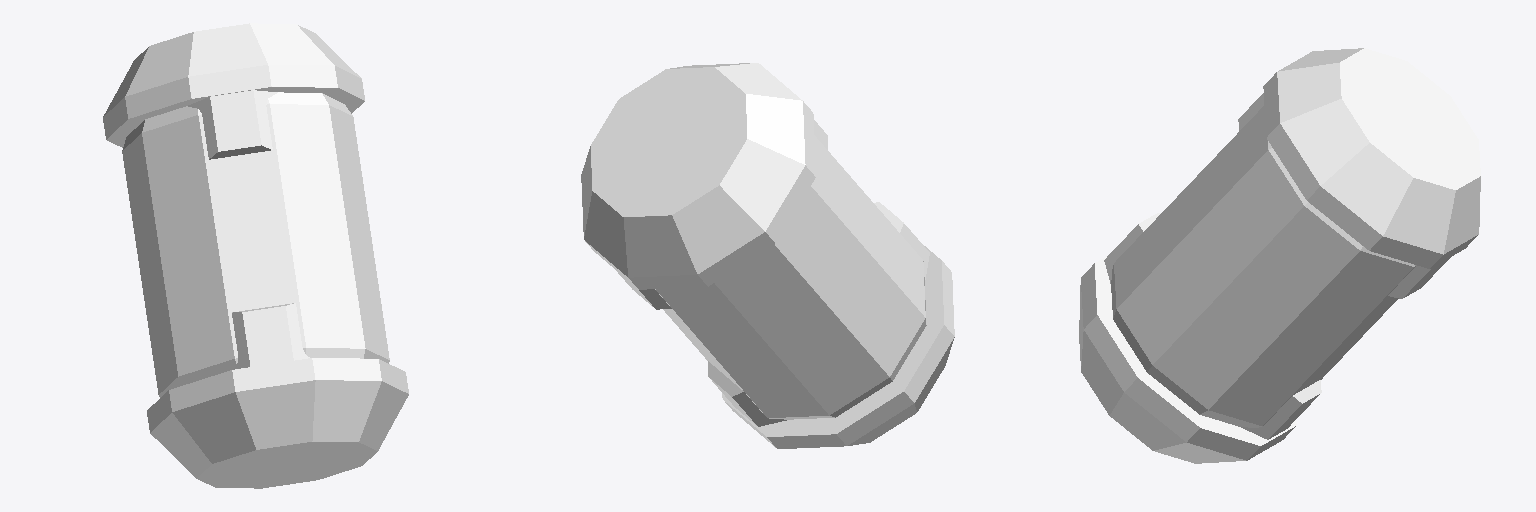
File: tris.obj
The picture shows the model from 3 angles: view 1: azimuth 30°, elevation 25°; view 2: azimuth 150°, elevation 25°; view 3: azimuth 270°, elevation 25°; orthographic projection.
Parts seen in each view (by area): view 1: tris.obj; view 2: tris.obj; view 3: tris.obj.
Part boxes in pixels (bbox=[...]): tris.obj: bbox=[103, 23, 408, 488]; tris.obj: bbox=[581, 63, 954, 448]; tris.obj: bbox=[1079, 48, 1480, 463].
Size of the model in its own units: 16.45 by 23.81 by 21.15.